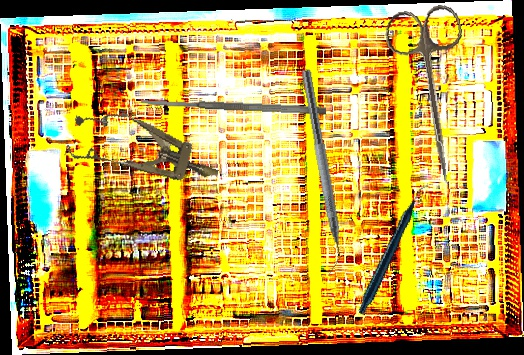Chopper: (287, 68, 351, 278)
Handpiece: (320, 182, 469, 317)
Iris Scissors: (381, 2, 488, 188)
Spatula Surgical: (140, 96, 327, 116)
Speculum: (63, 100, 227, 202)
